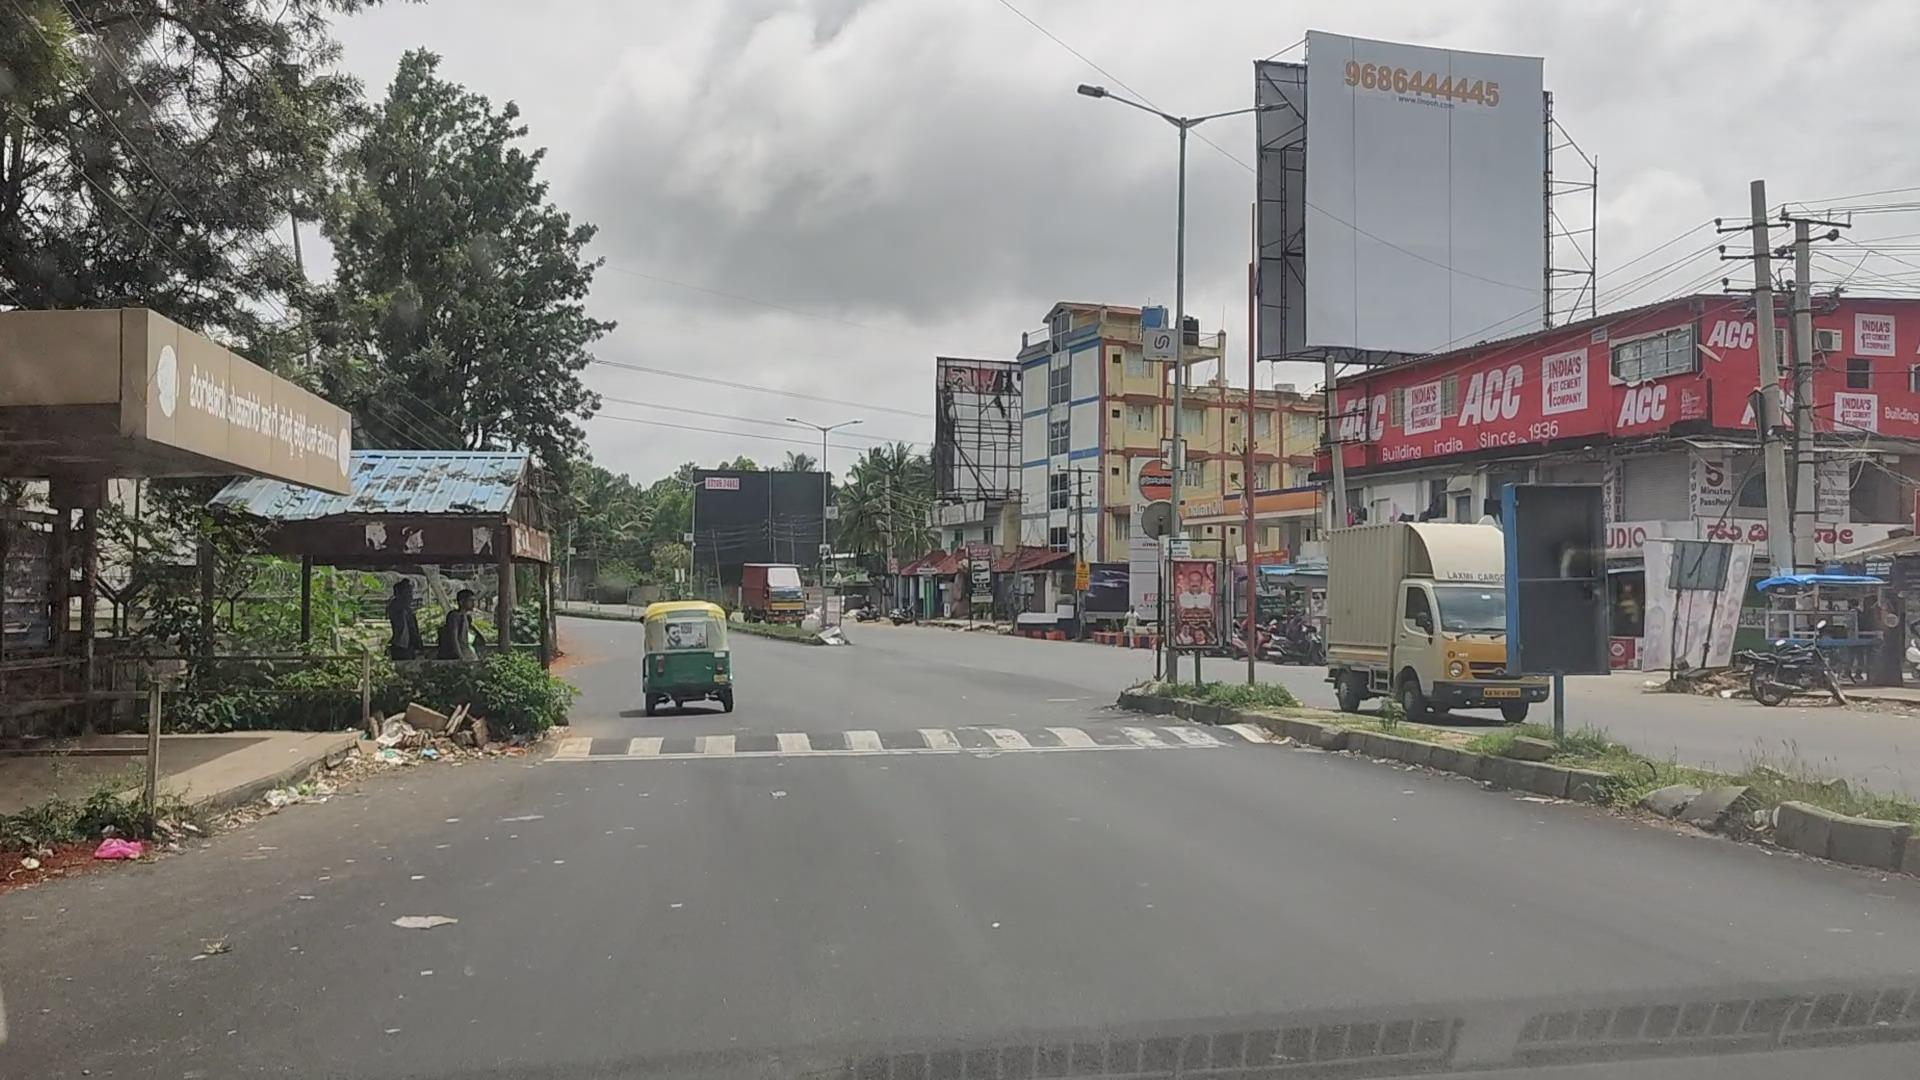LMV: (647, 601, 731, 698)
SpeedBump: (566, 716, 1220, 765)
